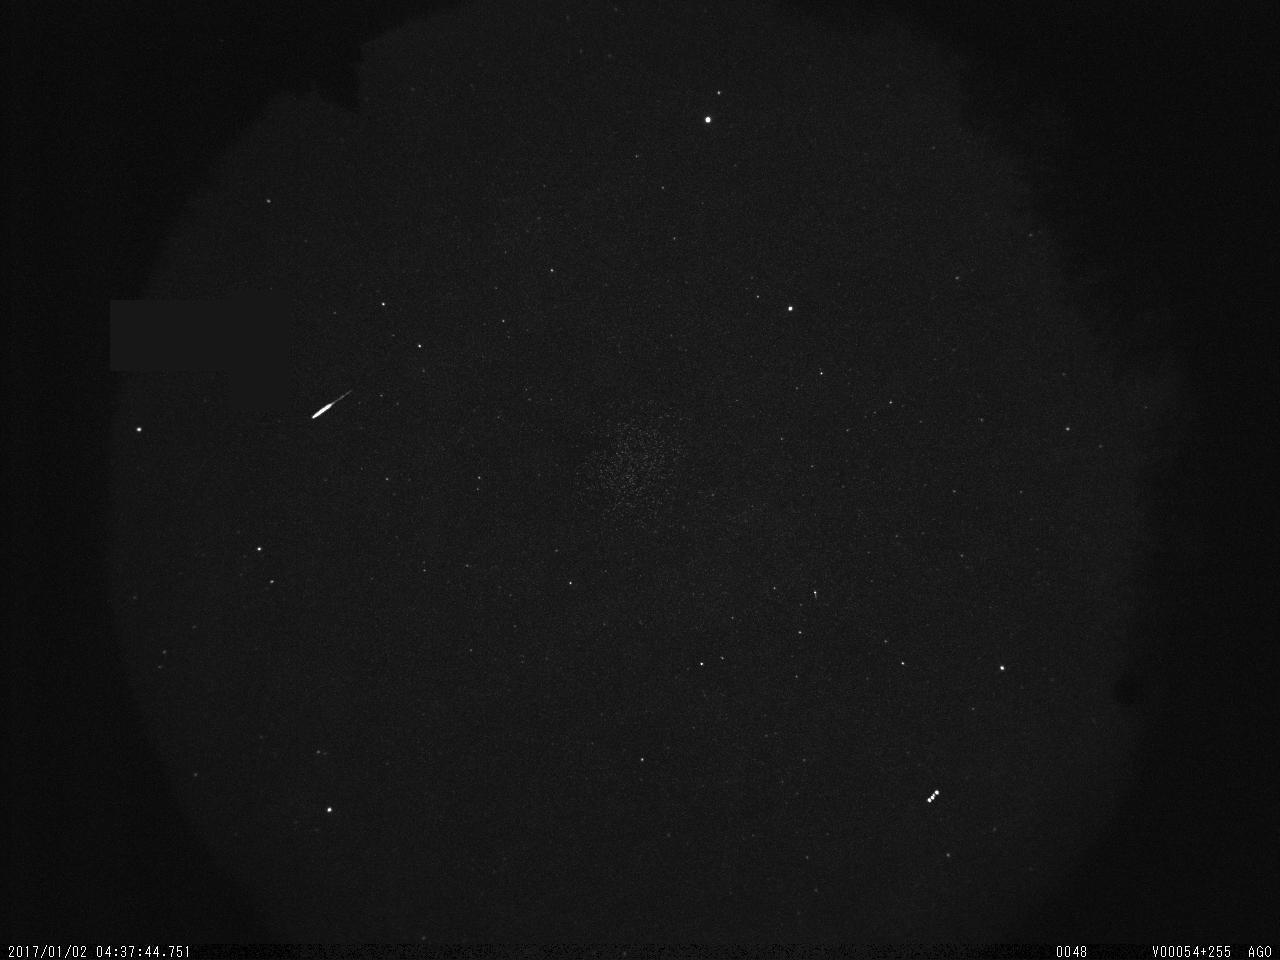meteor: (309, 382, 364, 419)
